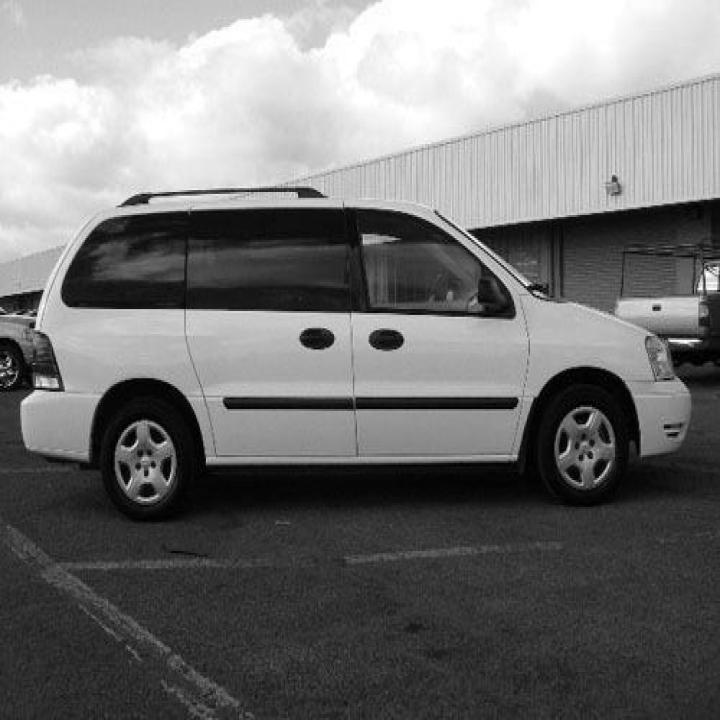car: (17, 184, 691, 518), (0, 307, 38, 392)
